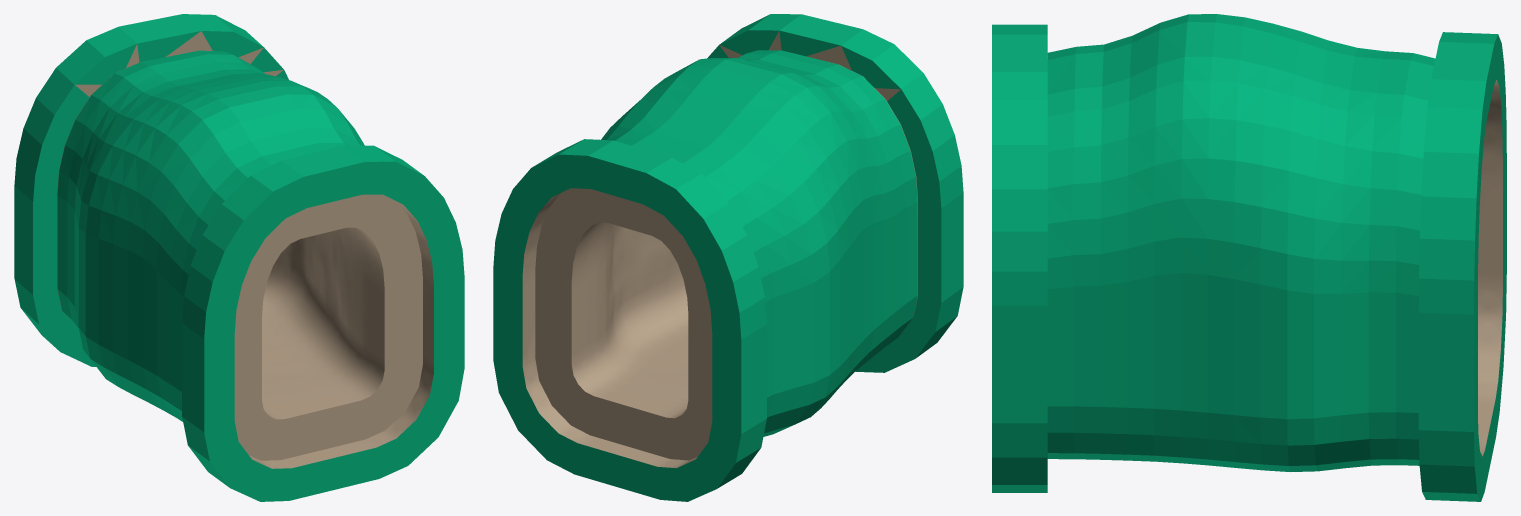
The picture shows the model from 3 angles, left to right: view 1: azimuth 30°, elevation 25°; view 2: azimuth 150°, elevation 25°; view 3: azimuth 270°, elevation 25°; orthographic projection. The views are drawn at different scales.
Parts seen in each view (by area): view 1: TT_Curve_5_LOD0; view 2: TT_Curve_5_LOD0; view 3: TT_Curve_5_LOD0.
Boxes of the visible parts, x1,y1,x2,y2 form: TT_Curve_5_LOD0: (14,14,464,501); TT_Curve_5_LOD0: (493,14,963,501); TT_Curve_5_LOD0: (992,14,1506,501).
Bounding box in the file's own units: 359 × 415 × 464.
